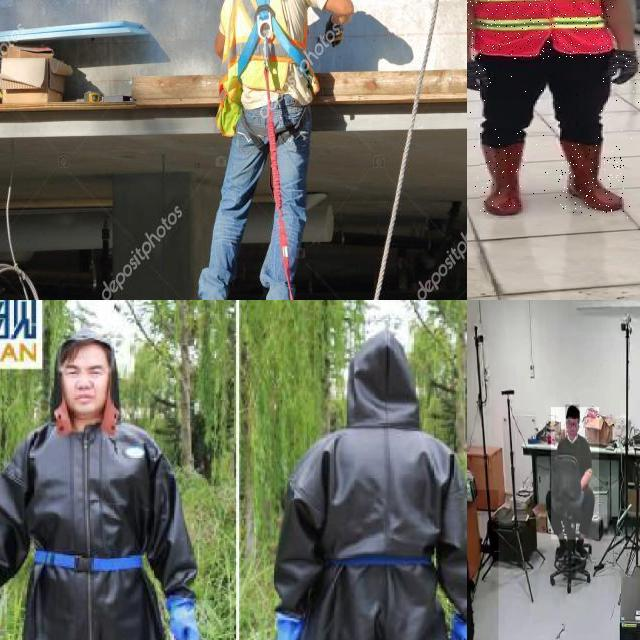Harness: (236, 0, 310, 82)
boots: (558, 139, 624, 213), (480, 144, 524, 218)
face_nomask: (54, 354, 110, 423), (565, 418, 579, 438)
hand_glove: (166, 600, 205, 640), (273, 612, 300, 640)
head_nohelmet: (350, 324, 411, 384), (52, 331, 115, 360), (565, 404, 580, 418)
person: (0, 314, 219, 640), (246, 332, 467, 640), (467, 0, 640, 217), (551, 407, 599, 541)
shoes: (572, 534, 590, 563), (553, 535, 569, 563)
vest: (467, 0, 615, 59)
